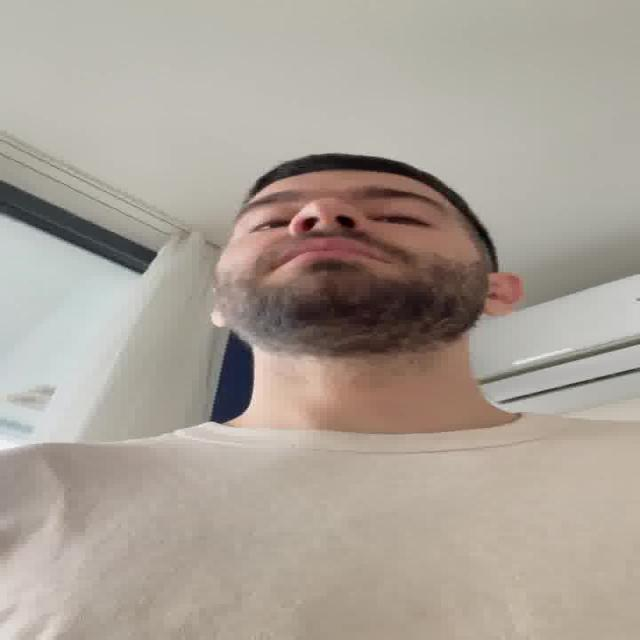earlobe: (479, 303, 509, 319), (208, 311, 233, 328)
eye: (370, 211, 438, 231), (250, 217, 292, 234)
nose: (296, 222, 363, 240)
wholeear: (482, 271, 526, 317)
